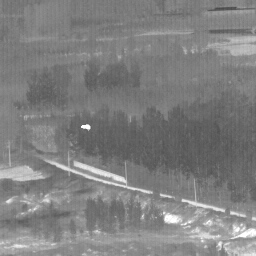Target: (80, 122, 92, 131)
